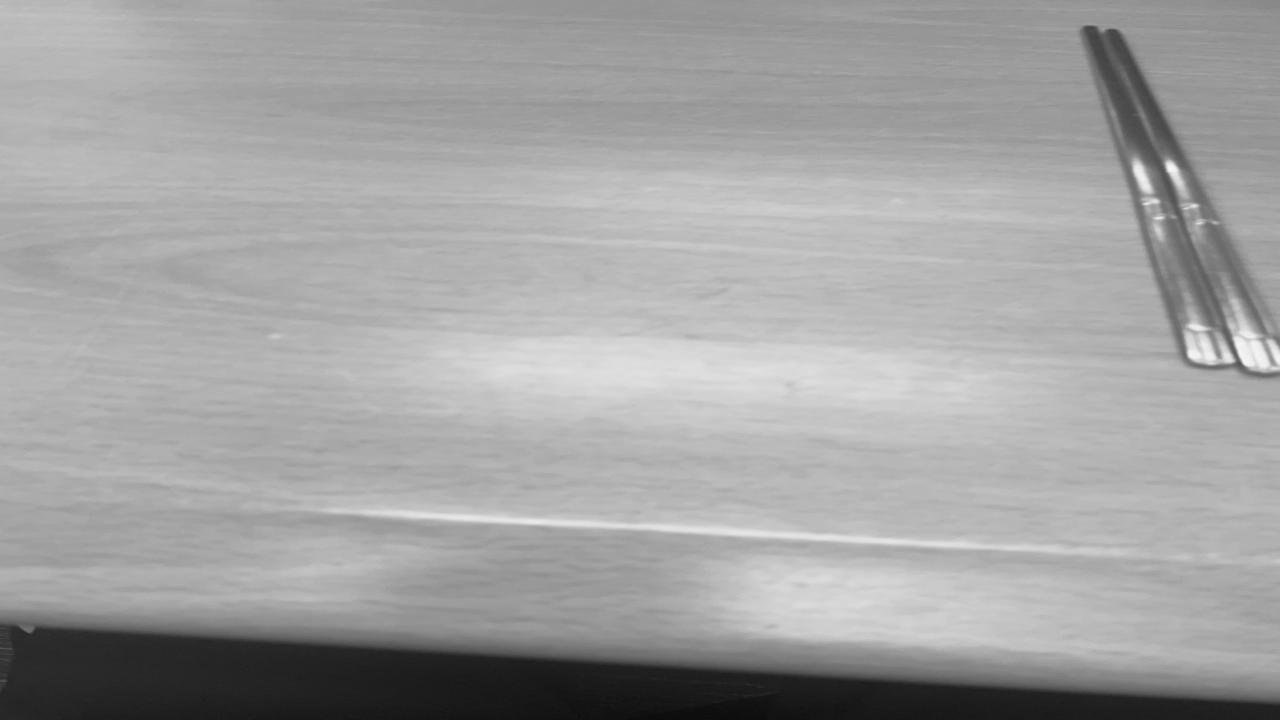chopstick: (1083, 27, 1280, 367)
